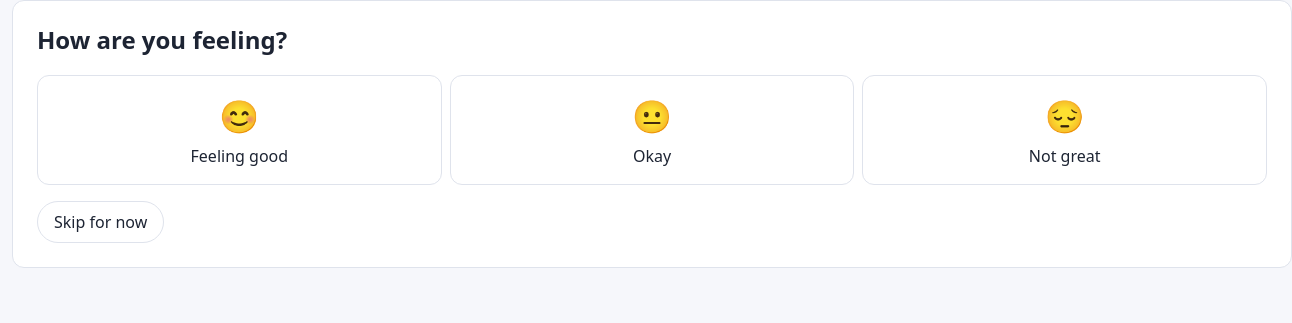
Scenario: Home session flow › stays on the check-in with an error if the session cannot start
Click the button "Skip for now" at (101, 222), box [37,201,164,243]
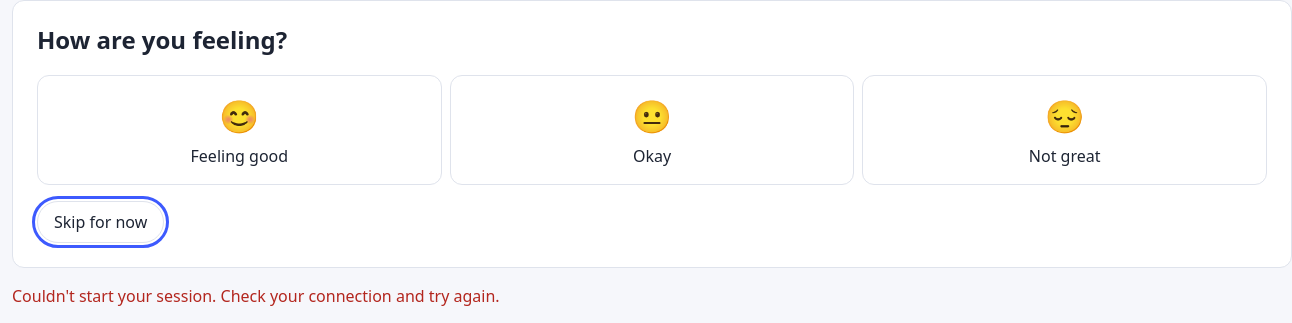
Check: the text "Couldn't start your session. Check your connection and try again." is shown, box [12,285,500,307]
